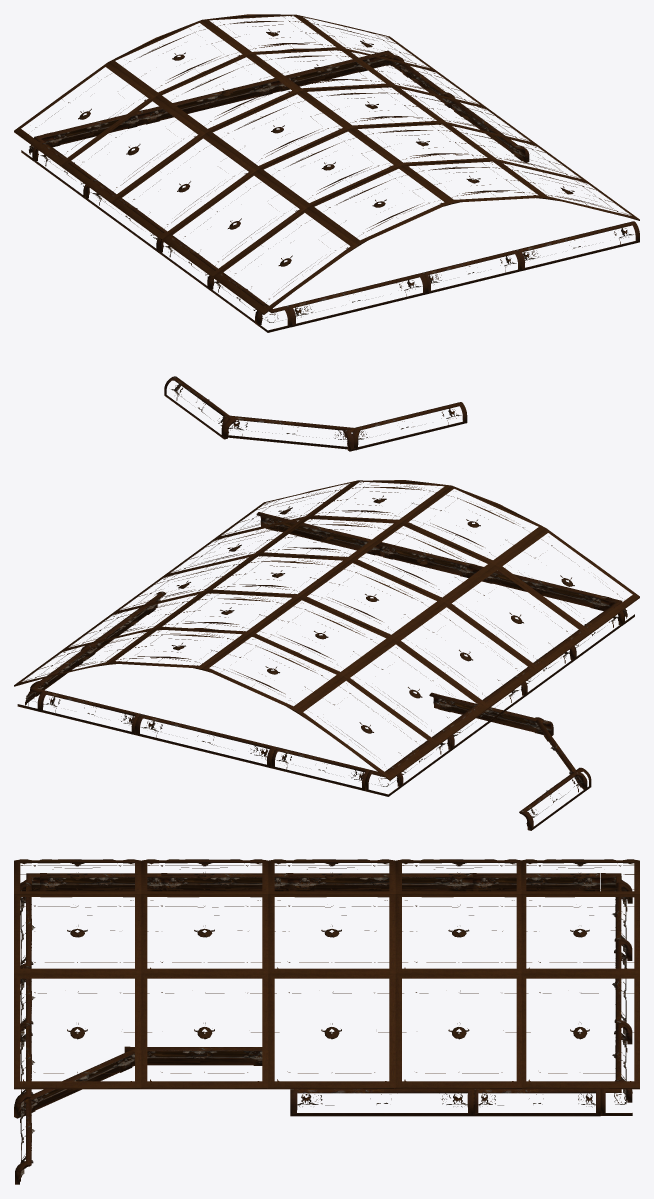
Rendered from opulent-details.glb.
The picture shows the model from 3 angles, top to bottom: view 1: azimuth 30°, elevation 25°; view 2: azimuth 150°, elevation 25°; view 3: azimuth 270°, elevation 25°; orthographic projection. The views are drawn at different scales.
Visible parts, largest first — view 1: carved-vault|3, carved-cornice|4; view 2: carved-vault|3, carved-cornice|4; view 3: carved-vault|3, carved-cornice|4.
Part boxes in pixels (x1,y1,x2,y2): carved-vault|3: (14, 14, 639, 314); carved-cornice|4: (21, 50, 639, 451); carved-vault|3: (14, 480, 639, 780); carved-cornice|4: (17, 512, 634, 830); carved-vault|3: (14, 859, 639, 1089); carved-cornice|4: (14, 873, 632, 1184).
Bounding box in the file's own units: 6.51 × 3.71 × 7.48.
2 materials, 2 textured.
